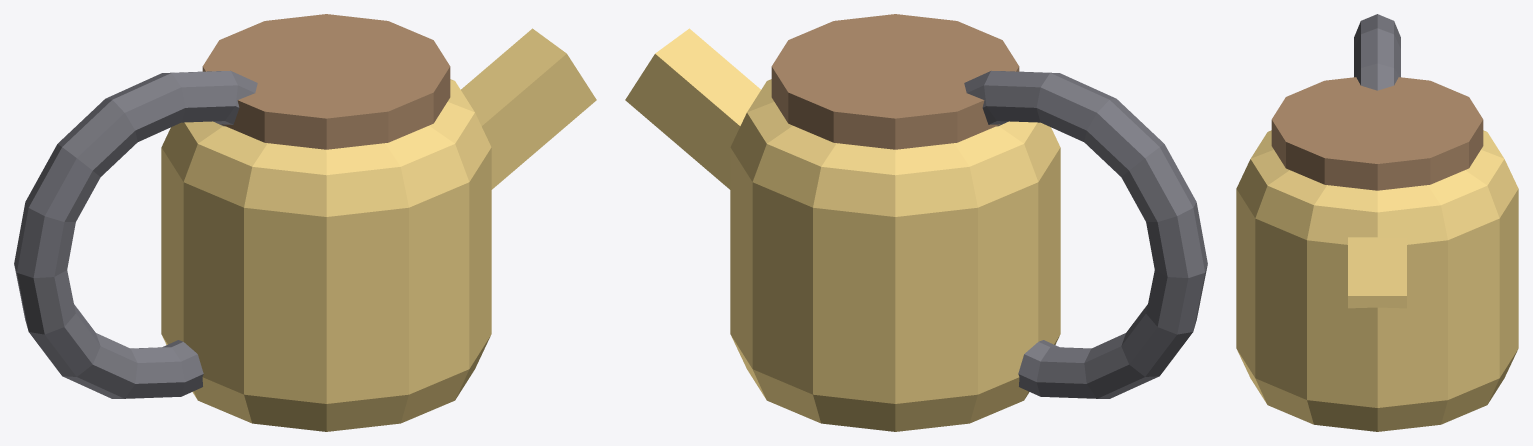
The model's file is cozy-home-interiors-kettle-968a5f90.glb.
3 renders of one model, left to right at view 1: azimuth 30°, elevation 25°; view 2: azimuth 150°, elevation 25°; view 3: azimuth 270°, elevation 25°, orthographic. The views are drawn at different scales.
Parts seen in each view (by area): view 1: kettle; view 2: kettle; view 3: kettle.
Boxes of the visible parts, x1,y1,x2,y2 form: kettle: (14, 14, 596, 431); kettle: (625, 14, 1207, 431); kettle: (1236, 14, 1518, 431).
Bounding box in the file's own units: 0.4726 × 0.28 × 0.24.
